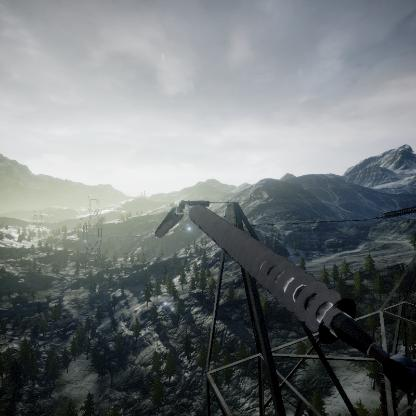insulator: (184, 200, 367, 347), (155, 201, 181, 241)
